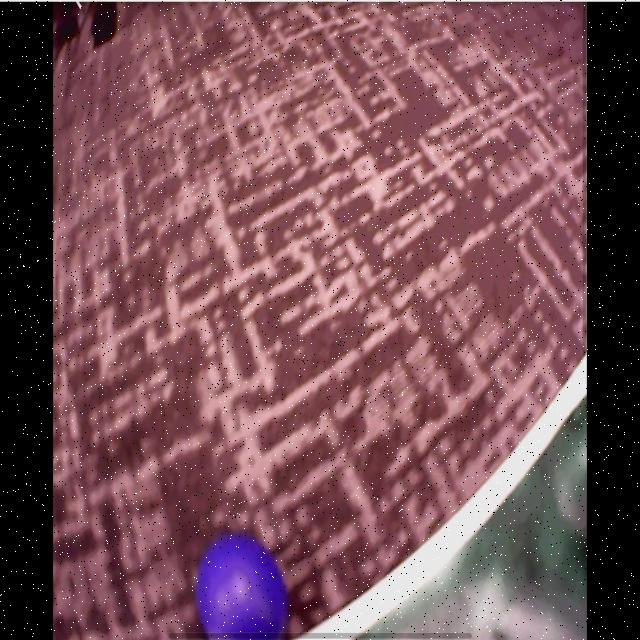ball: (200, 536, 286, 640)
